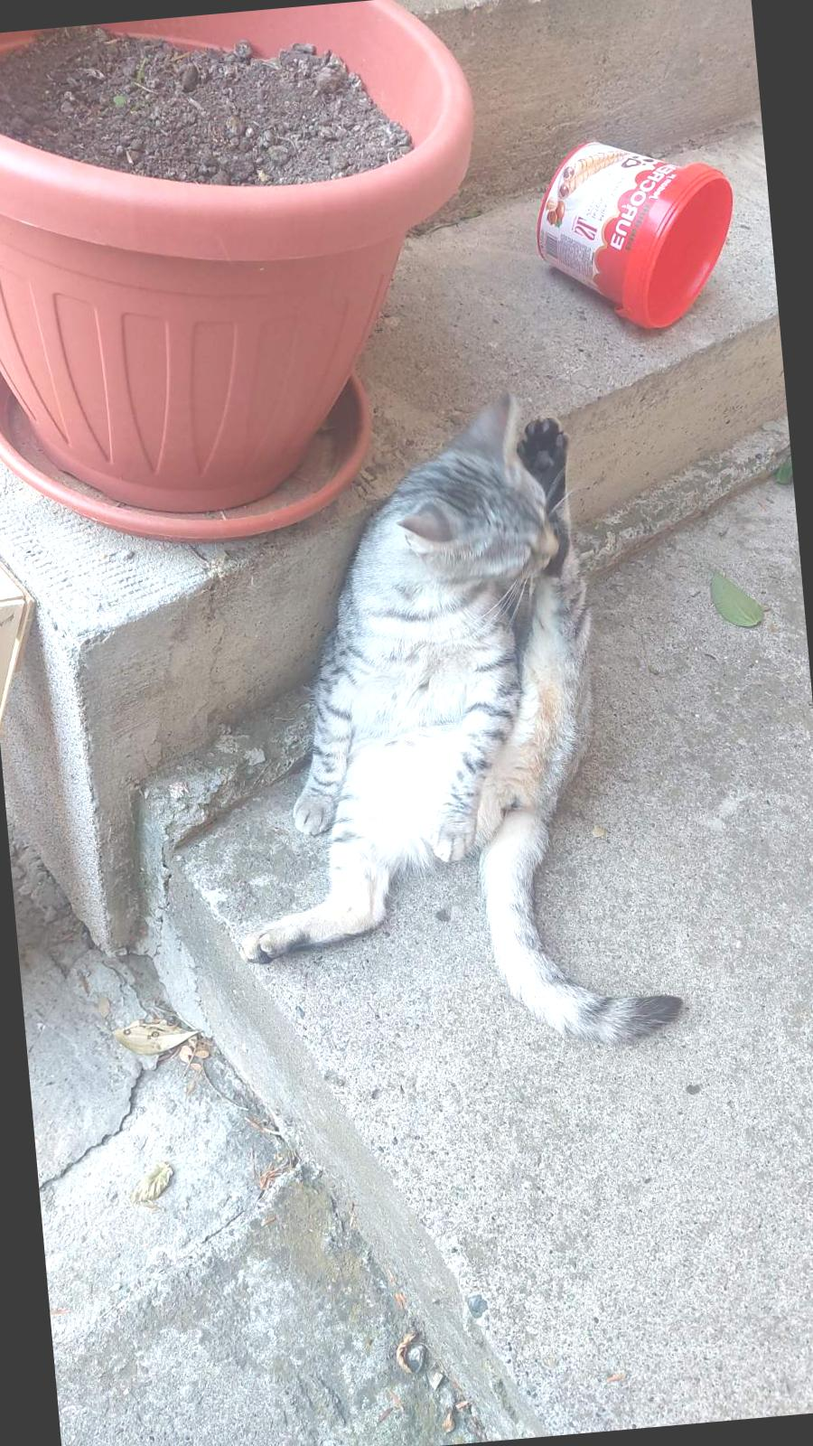macka: (195, 366, 687, 1072)
